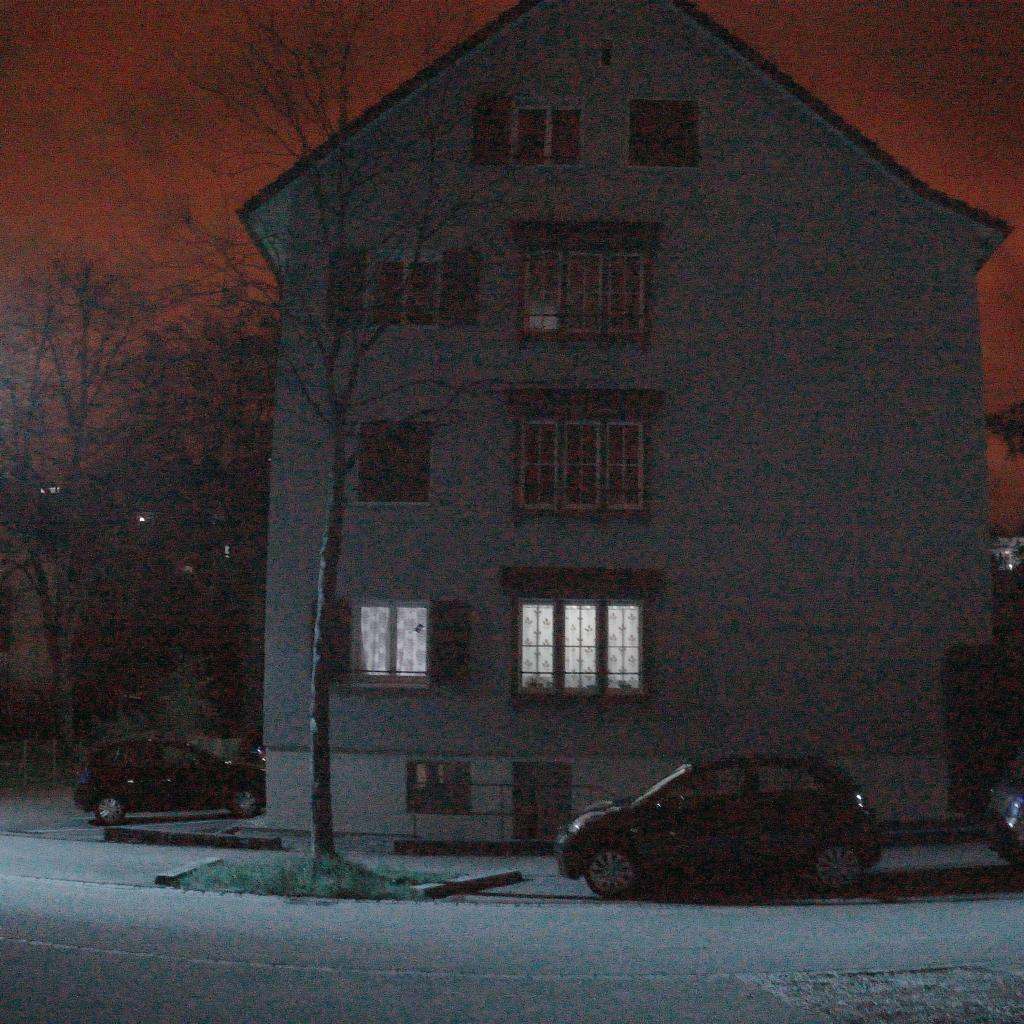car: (554, 750, 884, 901), (72, 737, 264, 827), (980, 753, 1024, 869), (229, 724, 264, 768)
facade: (235, 0, 1015, 856), (0, 475, 268, 786)
street: (0, 785, 1024, 1024)
vegetation: (0, 0, 665, 904)
window: (516, 596, 644, 693), (520, 249, 646, 335), (521, 418, 641, 507), (356, 424, 431, 503), (357, 603, 429, 683), (628, 100, 701, 167), (511, 101, 583, 167), (511, 763, 572, 840), (369, 260, 440, 325), (405, 761, 471, 813)
